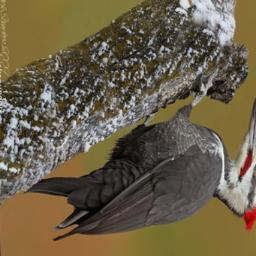Woodpecker: (14, 68, 256, 247)
